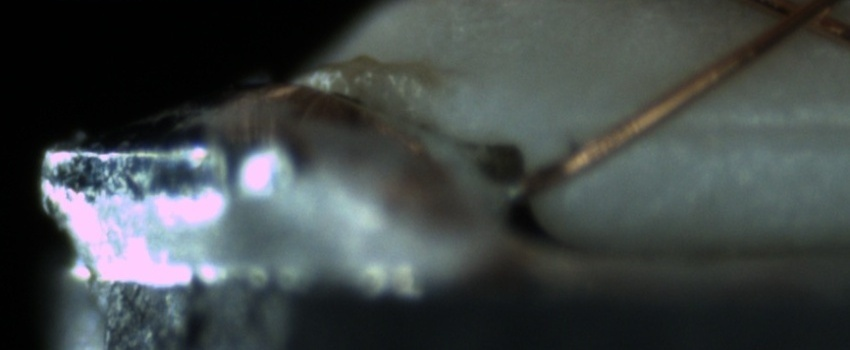CL: (762, 0, 843, 42)
DL: (631, 91, 842, 163)
